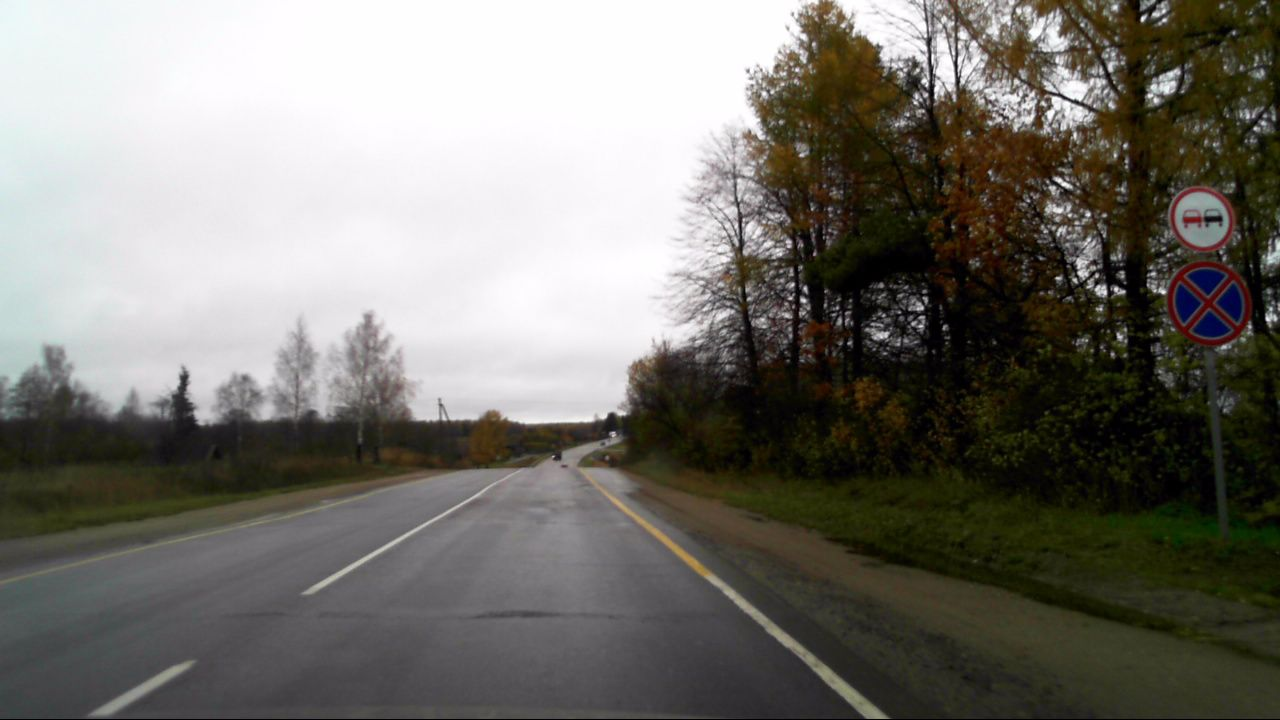No Parking: (1164, 260, 1252, 349)
